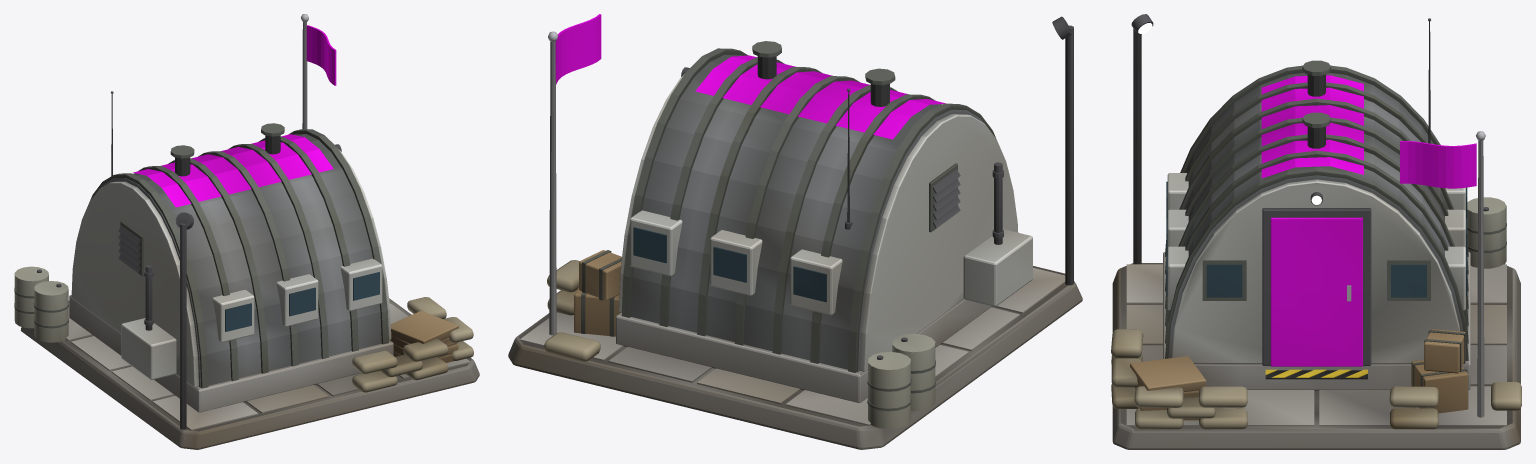
Rendered from barracks.glb.
The picture shows the model from 3 angles, left to right: view 1: azimuth 30°, elevation 25°; view 2: azimuth 150°, elevation 25°; view 3: azimuth 270°, elevation 25°; orthographic projection. The views are drawn at different scales.
Visible parts, largest first — view 1: Body; view 2: Body; view 3: Body.
Part boxes in pixels (x1,y1,x2,y2): Body: [14, 14, 479, 449]; Body: [508, 14, 1082, 449]; Body: [1111, 14, 1521, 449].
Size of the model in its own units: 4.14 by 3.28 by 4.01.
1 material, 1 textured.
